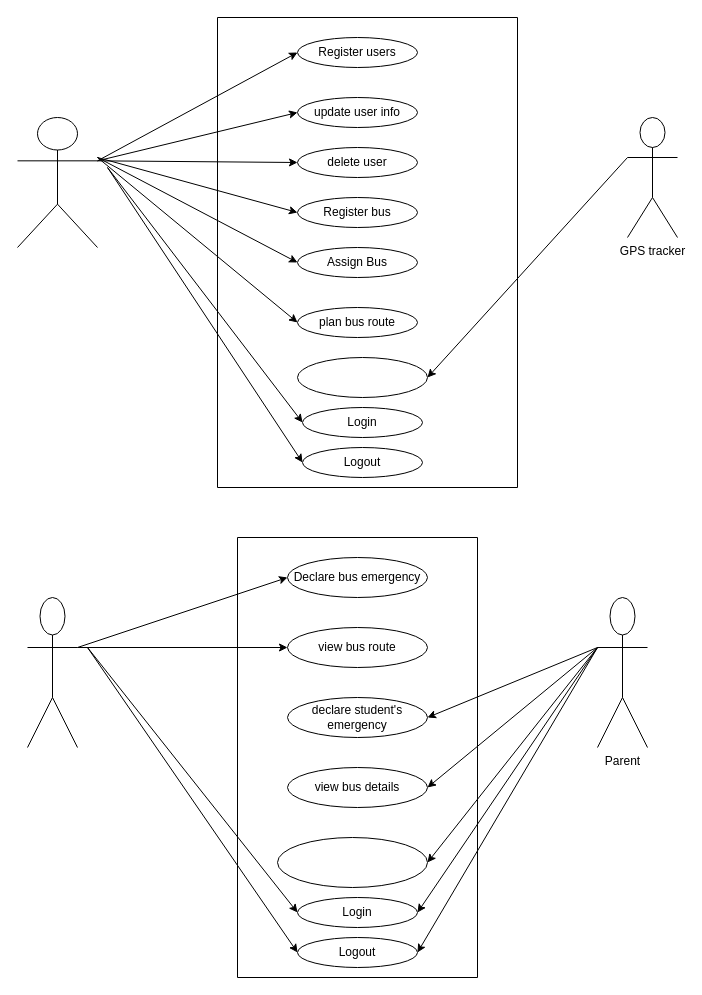
The diagram is 702 pixels wide and 995 high, and some of its shapes have lost their labels. Each missing label, with the box of its shape:
Driver: (26, 596, 78, 748)
get real time bus information: (296, 356, 428, 398)
School Admin: (16, 116, 98, 248)
view bus location: (276, 836, 428, 888)
